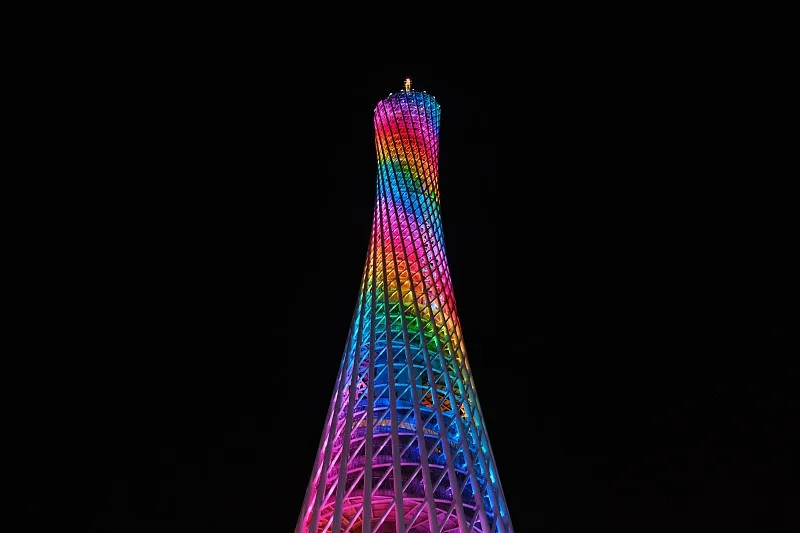Canton: (287, 79, 519, 533)
